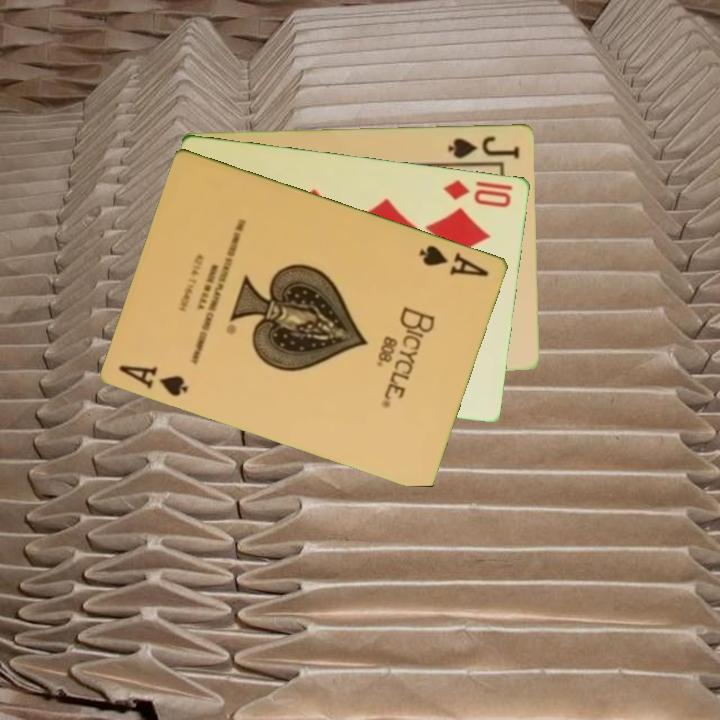10d: (440, 175, 516, 210)
As: (416, 241, 492, 280), (116, 361, 192, 399)
Js: (444, 132, 522, 161)
